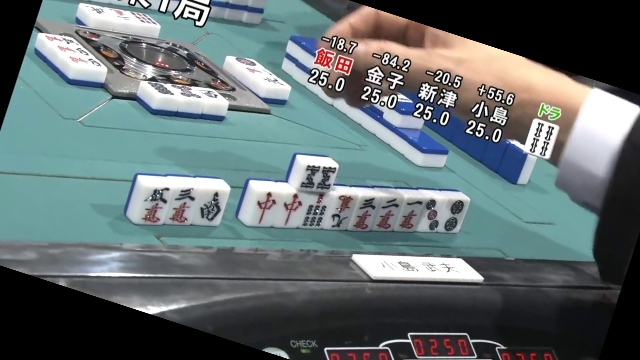Tehai: (120, 162, 469, 238)
